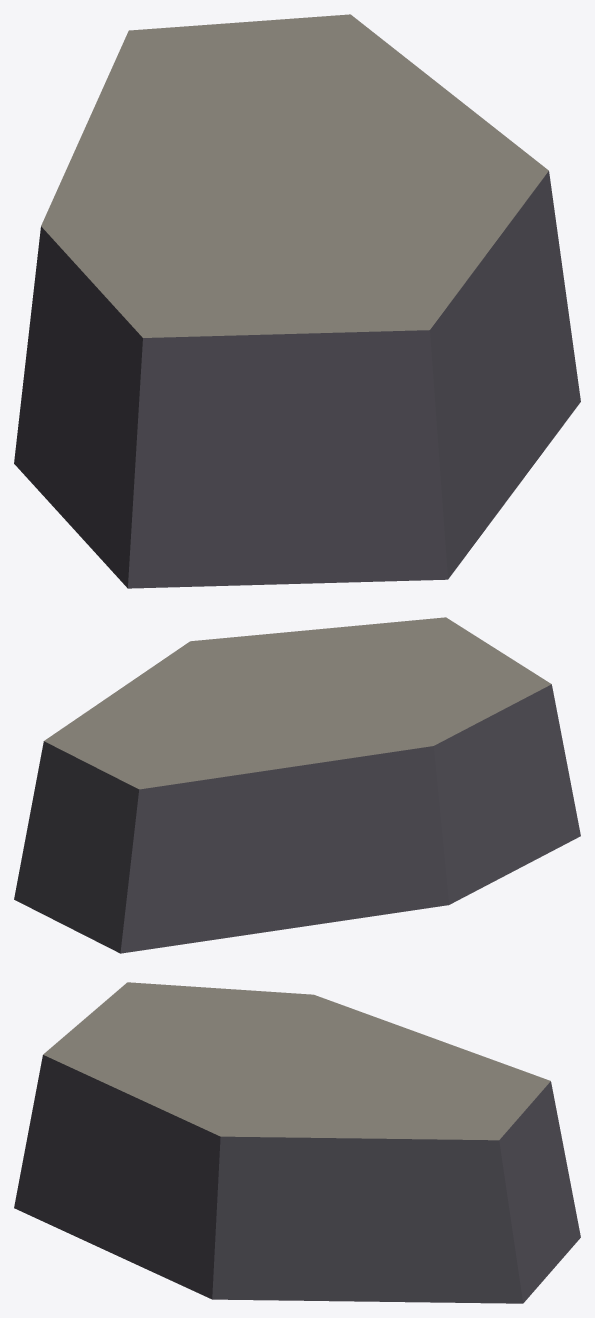
The model's file is TB_Env_RockD.FBX.
3 renders of one model, top to bottom at view 1: azimuth 30°, elevation 25°; view 2: azimuth 150°, elevation 25°; view 3: azimuth 270°, elevation 25°, orthographic. The views are drawn at different scales.
Parts seen in each view (by area): view 1: TB_Env_RockD; view 2: TB_Env_RockD; view 3: TB_Env_RockD.
Part boxes in pixels (x1=…): TB_Env_RockD: x1=14, y1=14, x2=580, y2=588; TB_Env_RockD: x1=14, y1=617, x2=580, y2=953; TB_Env_RockD: x1=14, y1=982, x2=580, y2=1303.
Bounding box in the file's own units: 2.04 × 0.8333 × 2.77.
